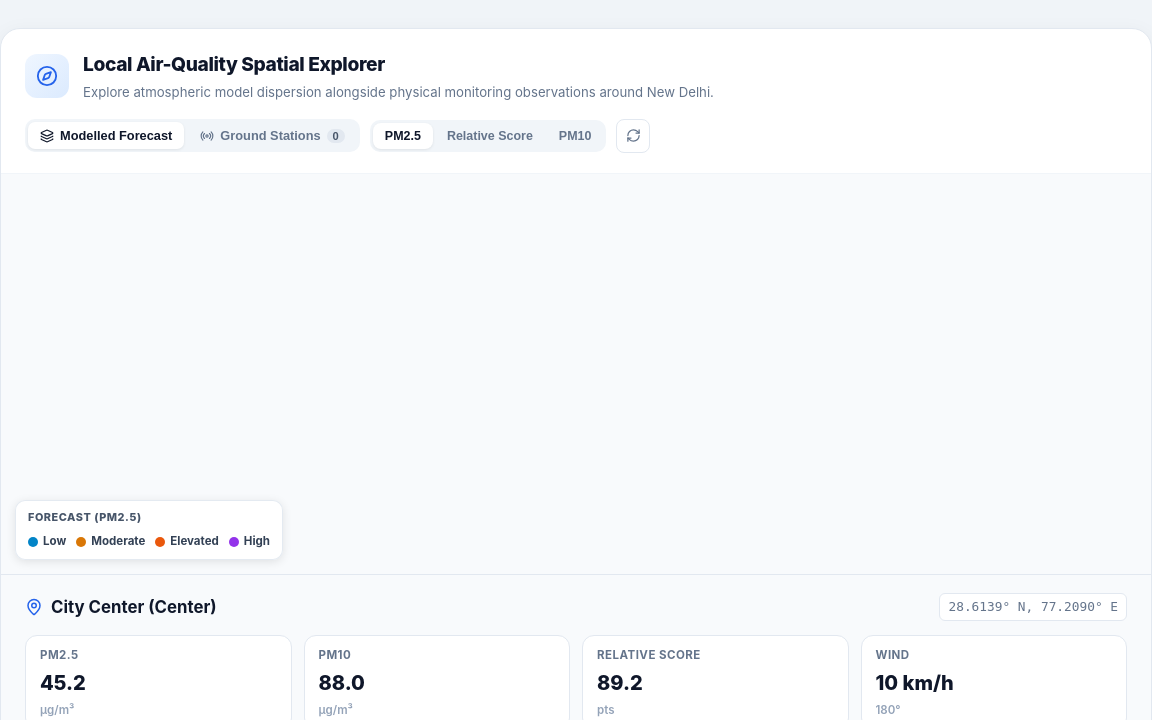
Test: AirQualityMap › handles empty stations gracefully without fabricating data
Click the tab "Ground Stations 0".
click(273, 136)  # box [188, 122, 357, 149]
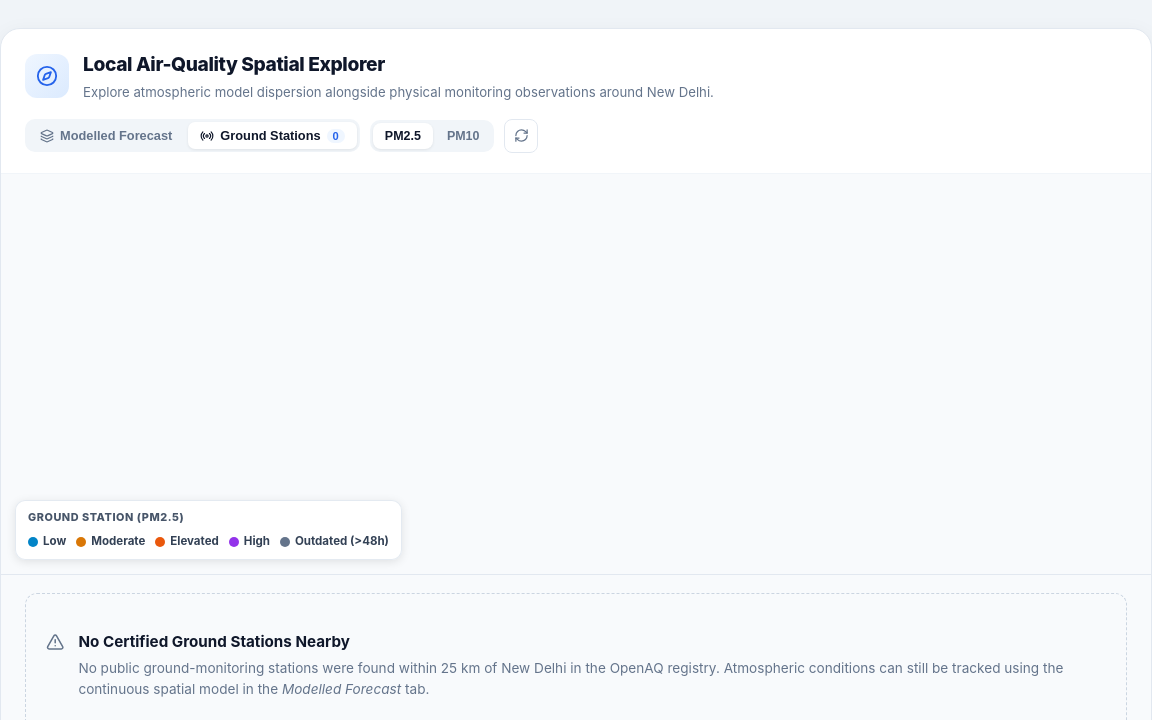
Now the text "No Certified Ground Stations Nearby" is shown, box [78, 632, 350, 651]
Now the text "No public ground-monitoring stations were found within 25 km of New Delhi" is shown, box [78, 658, 1106, 699]
